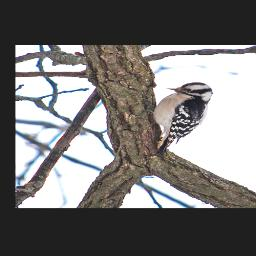Woodpecker: (138, 82, 213, 155)
